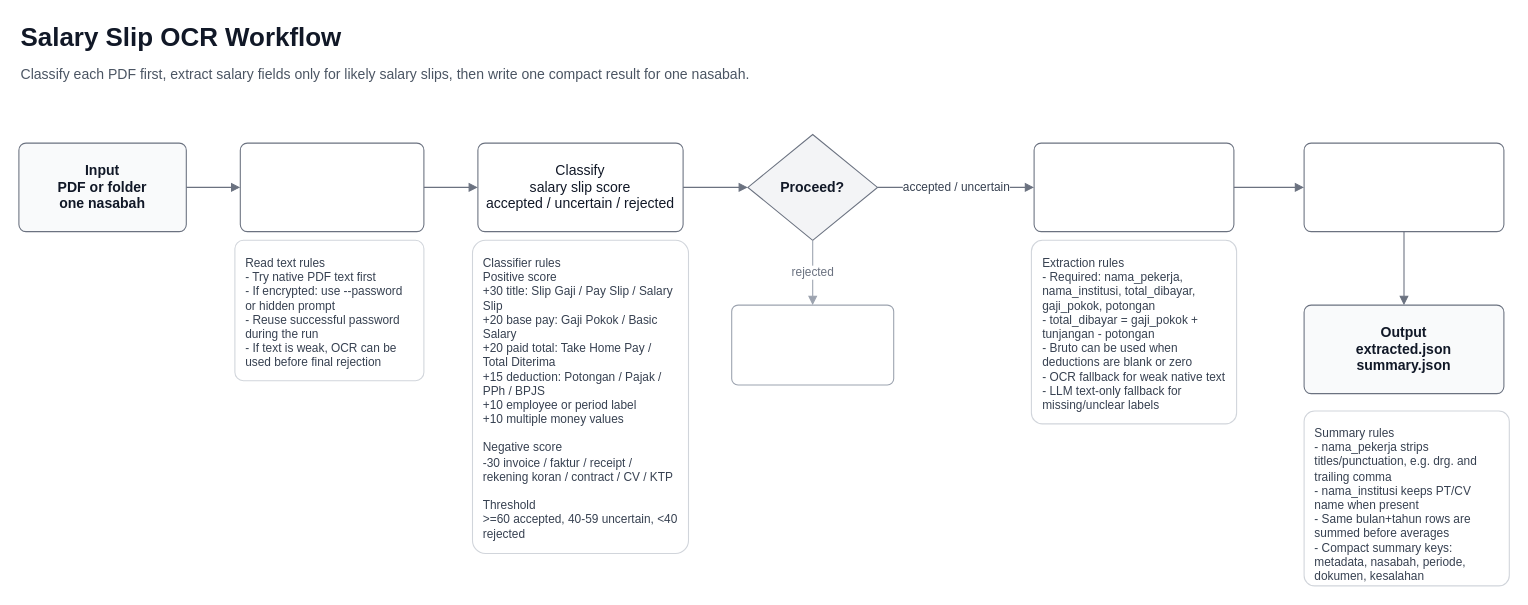
Image size: 1528x605. Some labels were removed from this diagram. Each missing label, with the centre of its shape:
"Extract Fields rules first OCR / LLM if needed" goes at (x=1133, y=187).
"Read Text pypdfium2 password if needed" goes at (x=331, y=187).
"Rejected PDFs summary.kesalahan[] + classifikasi" goes at (x=812, y=344).
"Summarize clean names group same month/year" goes at (x=1403, y=187).
